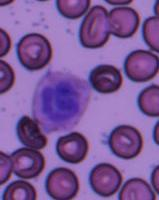N: (31, 69, 90, 134)
